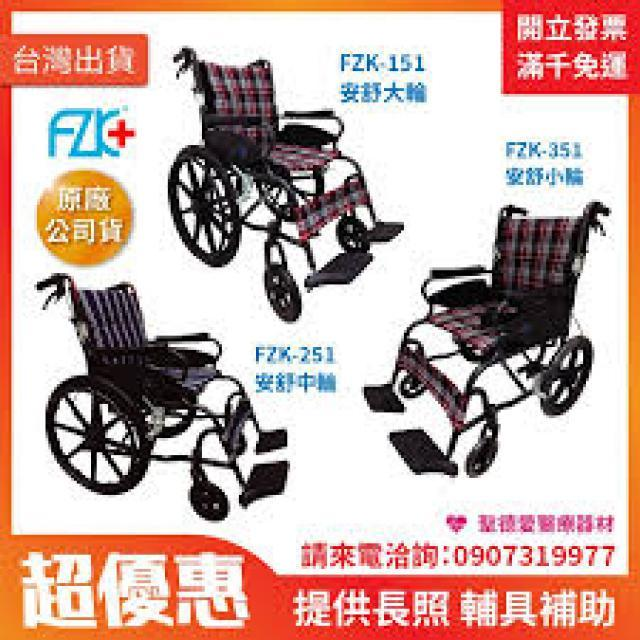wheelchair: (350, 193, 618, 490), (26, 270, 304, 532), (156, 39, 407, 318)
